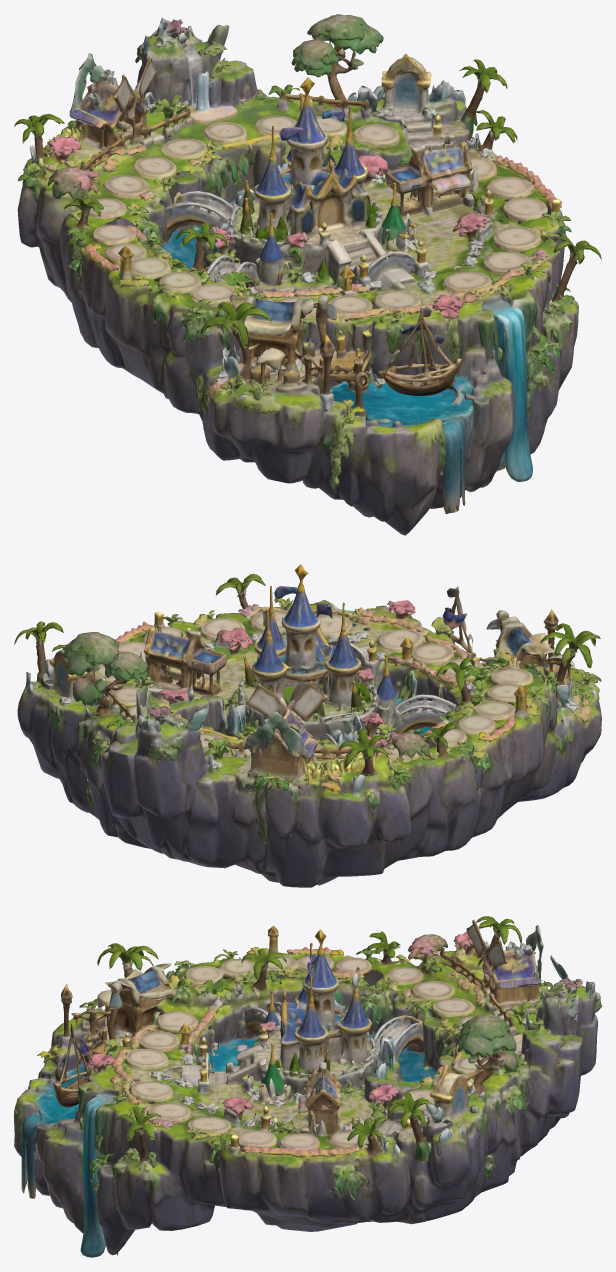
The model's file is insula1_tripo_v1.glb.
The picture shows the model from 3 angles, top to bottom: view 1: azimuth 30°, elevation 25°; view 2: azimuth 150°, elevation 25°; view 3: azimuth 270°, elevation 25°; orthographic projection. The views are drawn at different scales.
Parts seen in each view (by area): view 1: insula1; view 2: insula1; view 3: insula1.
Part boxes in pixels (left/top/right/bottom): insula1: left=14, top=14, right=601, bottom=535; insula1: left=14, top=564, right=601, bottom=887; insula1: left=14, top=916, right=601, bottom=1257.
Bounding box in the file's own units: 18.9 × 12.68 × 23.08.
1 material, 1 textured.
